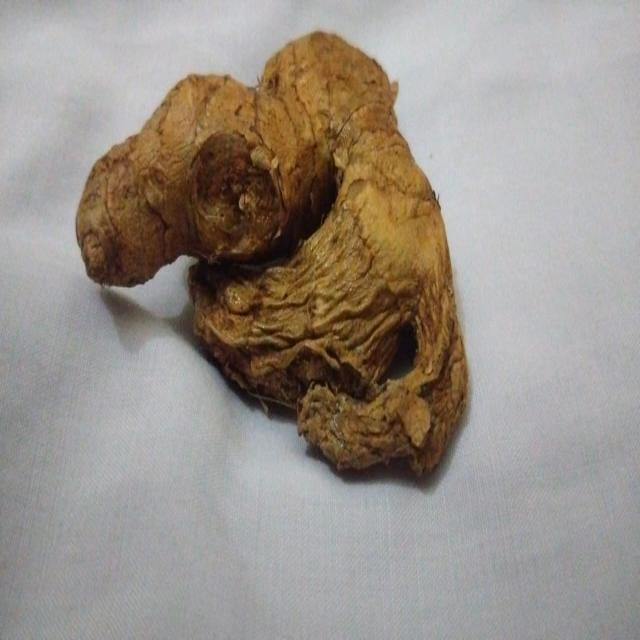ginger: (84, 32, 473, 480)
